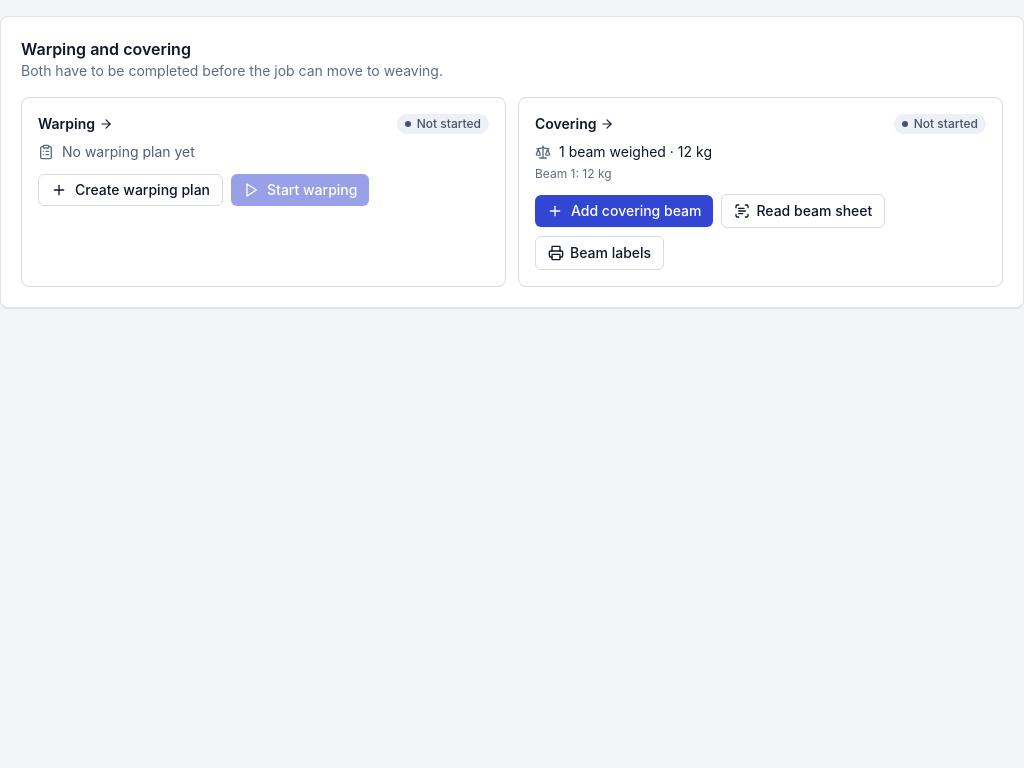
Scenario: the covering › refuses a beam number already weighed, and a missing weight, before asking the server
This screenshot has width=1024, height=768.
Click the button "Add covering beam" at (624,211), box [535,195,713,227]
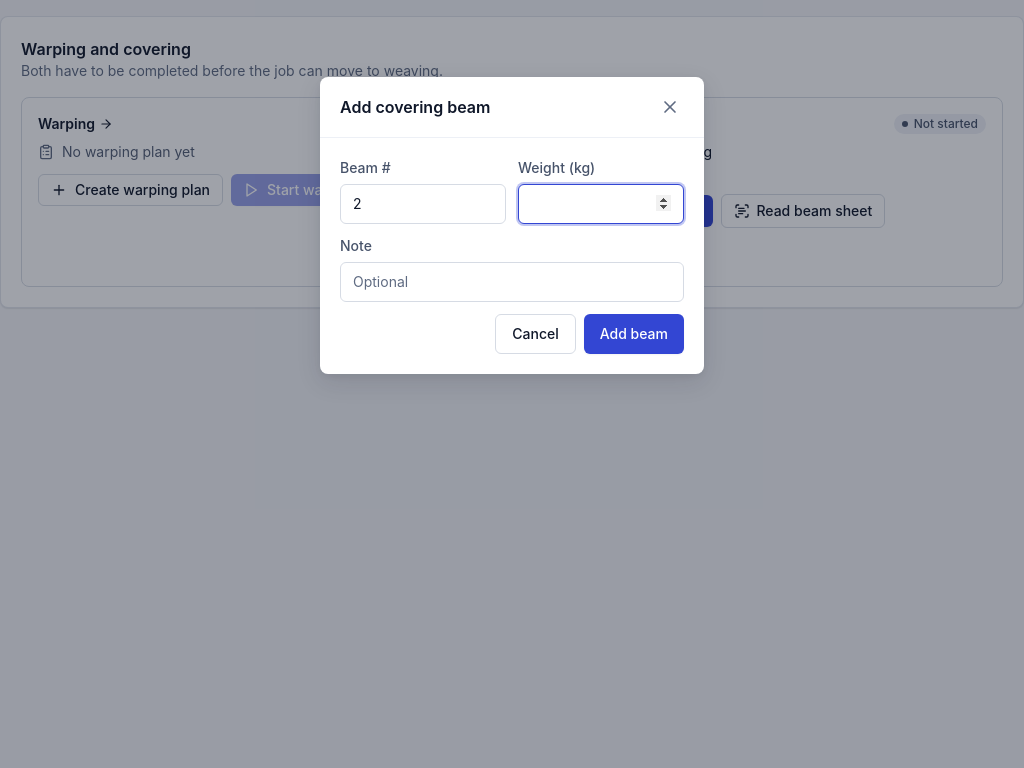
Click the button "Add beam" at (634,334), box [584,314,684,354]
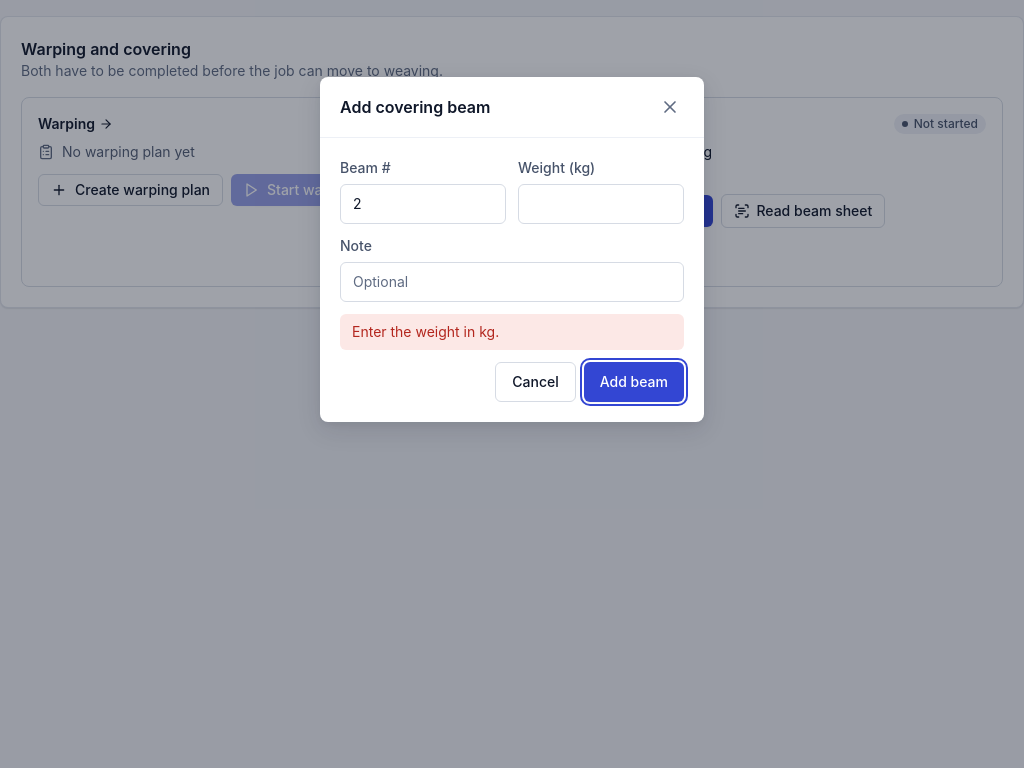
Check: the message shows "weight in kg", box [352,323,499,340]
Replace the text in the number field labelled "Beam #" with "1" at (423,204), box [340,184,506,224]
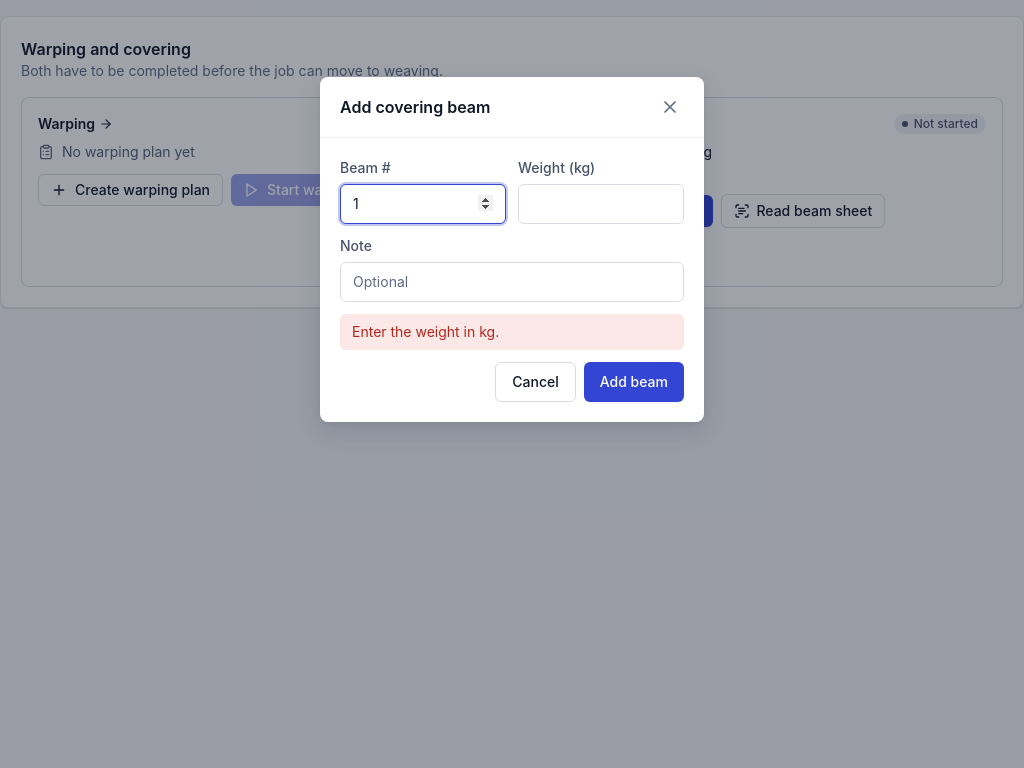
Type "10" into the number field labelled "Weight (kg)" at (601,204), box [518,184,684,224]
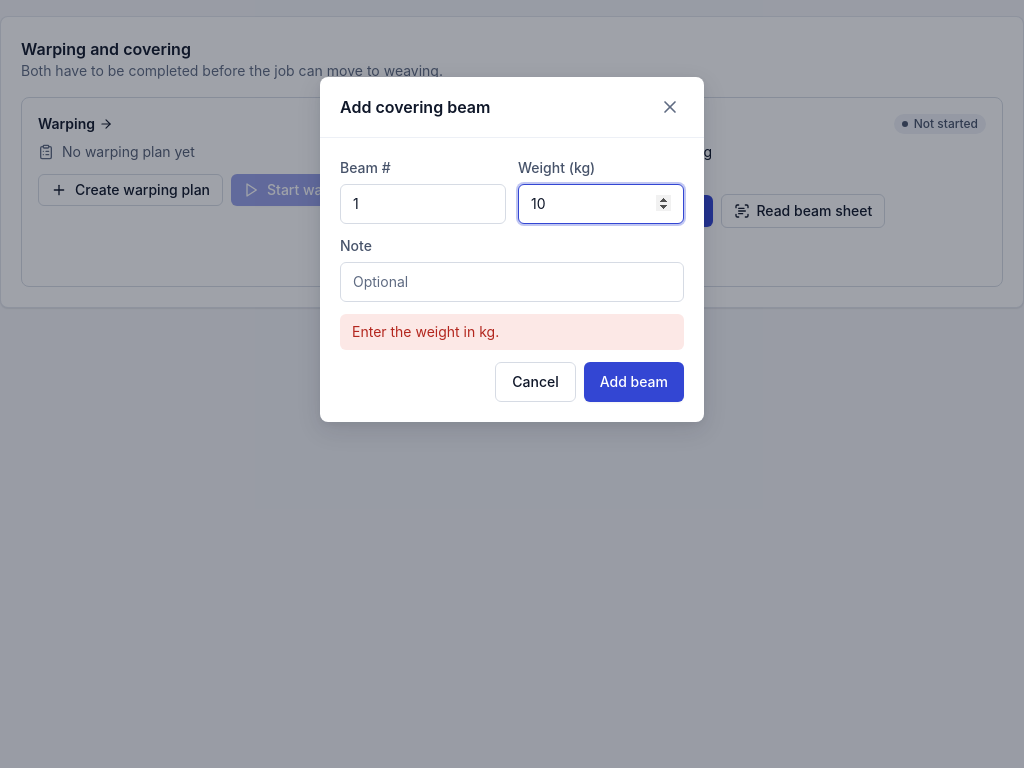
Click the button "Add beam" at (634,382), box [584,362,684,402]
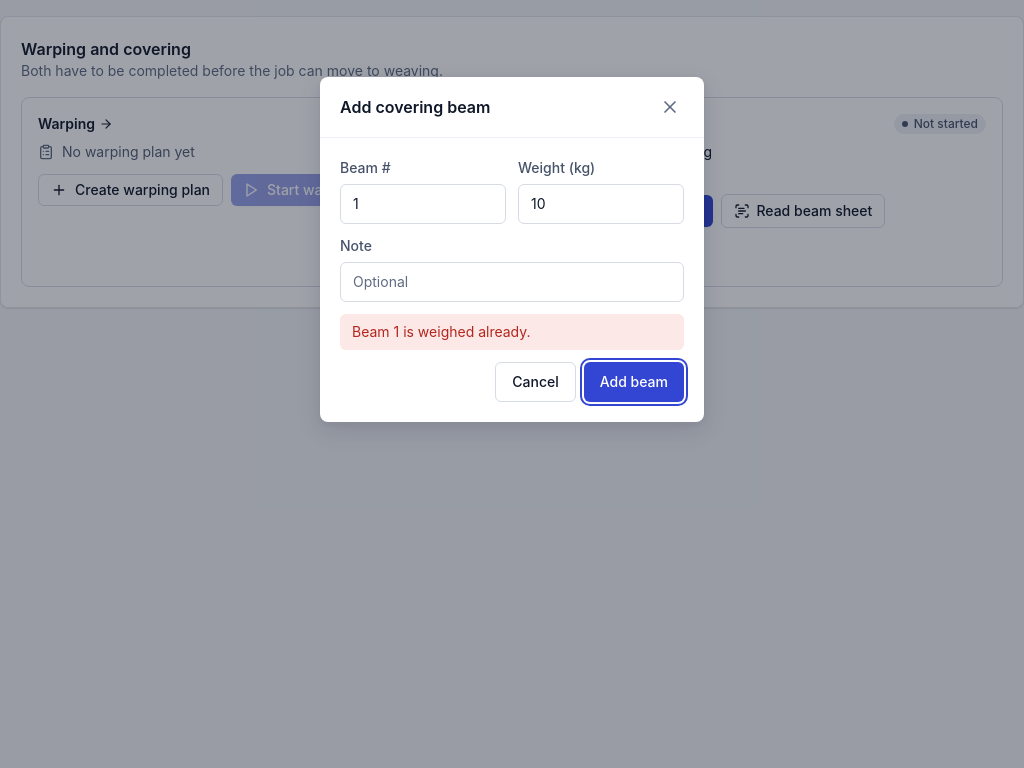
Check: the message shows "Beam 1 is weighed already", box [352,323,530,340]
